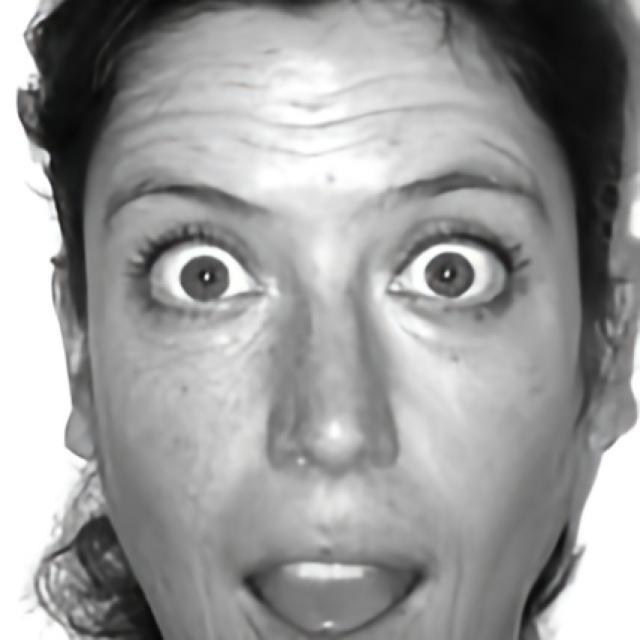fear: (80, 0, 580, 640)
